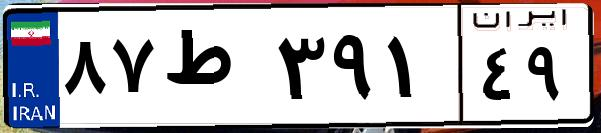1: (385, 28, 445, 110)
3: (270, 28, 330, 110)
4: (475, 38, 525, 113)
7: (110, 28, 158, 98)
8: (57, 26, 110, 100)
9: (330, 28, 385, 110), (525, 38, 570, 115)
ط: (158, 20, 270, 120)
